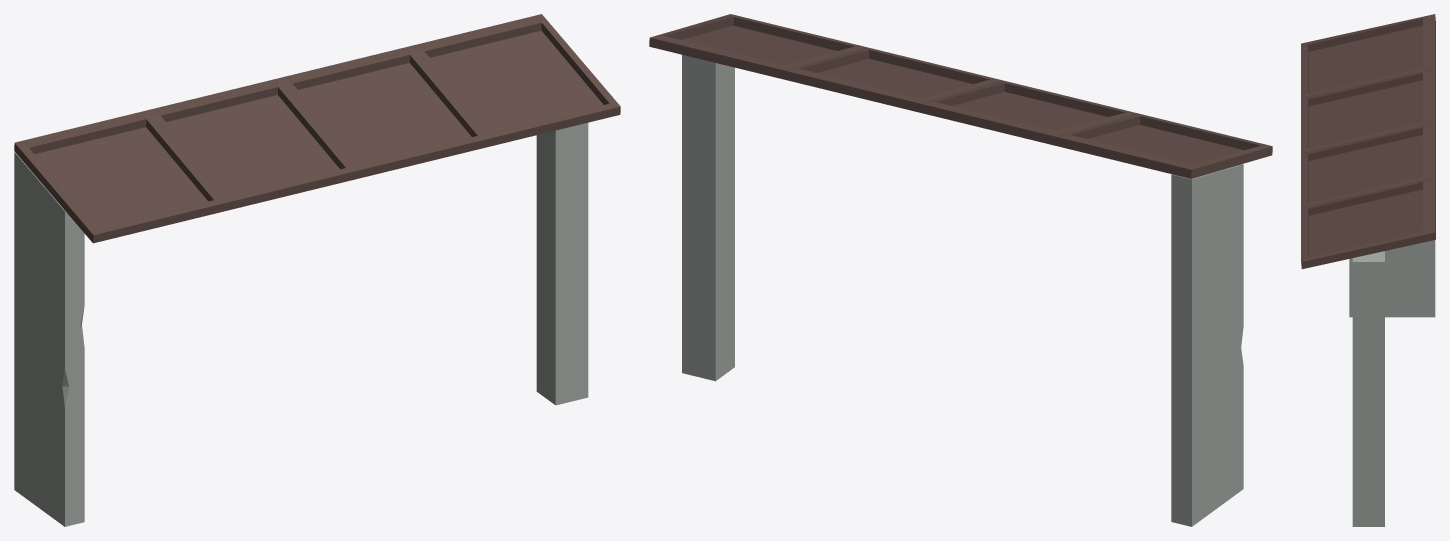
The model's file is SM_Env_Stall_14.fbx.
3 renders of one model, left to right at view 1: azimuth 30°, elevation 25°; view 2: azimuth 150°, elevation 25°; view 3: azimuth 270°, elevation 25°, orthographic. The views are drawn at different scales.
Visible parts, largest first — view 1: SM_Env_Stall_14; view 2: SM_Env_Stall_14; view 3: SM_Env_Stall_14.
Boxes of the visible parts, left/top/right/bottom form: SM_Env_Stall_14: left=14, top=14, right=620, bottom=526; SM_Env_Stall_14: left=649, top=14, right=1272, bottom=526; SM_Env_Stall_14: left=1301, top=14, right=1435, bottom=526.
Bounding box in the file's own units: 264 × 166 × 68.69.
1 material, 1 textured.
